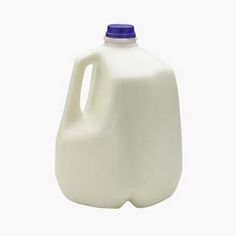Rec_Plastic: (52, 16, 187, 210)
